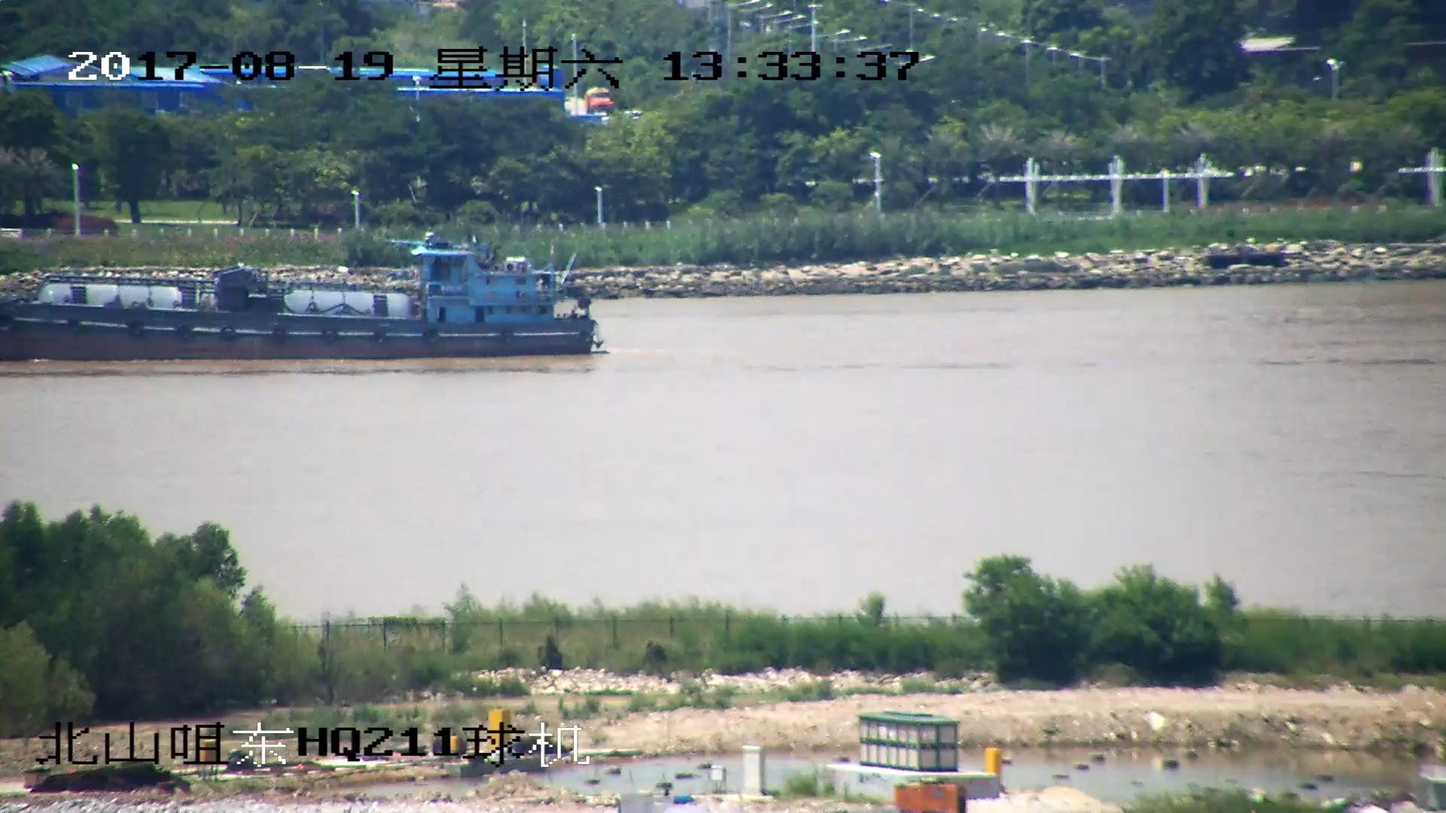bulk cargo carrier: (0, 238, 602, 358)
